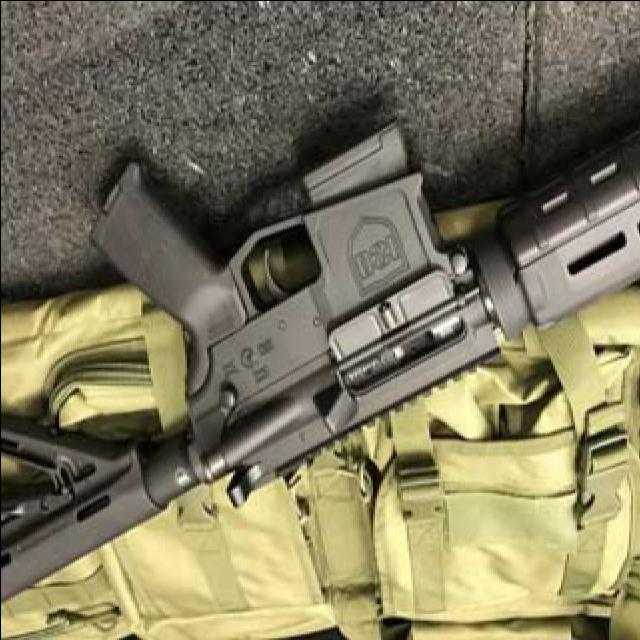rifle: (3, 119, 639, 614)
